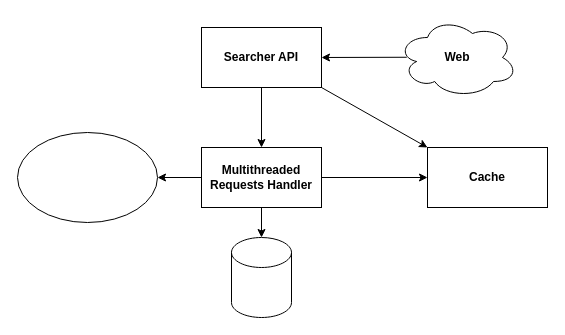
This 565x335 diagram has some shape labels left out. Here are the shapes that lost their labels. From the top down, the centre of each, then its label:
At pixel 87 177: "AsyncOperationsEngine".
At pixel 261 277: "Index".
